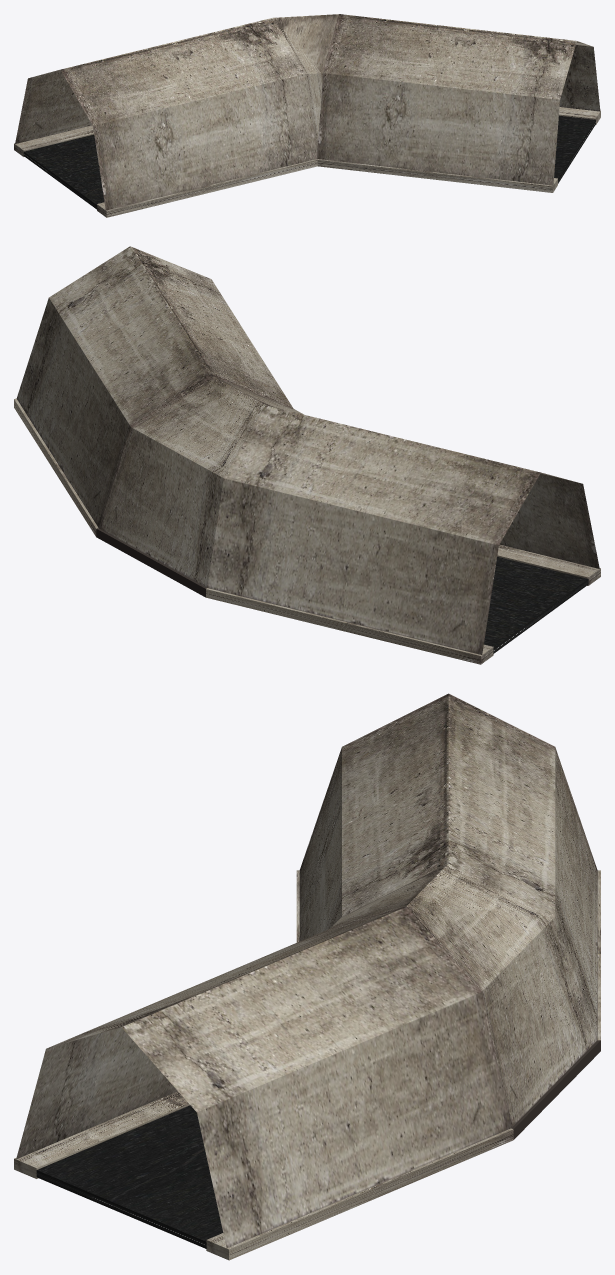
File: right_road_tunnel.glb
The picture shows the model from 3 angles, top to bottom: view 1: azimuth 30°, elevation 25°; view 2: azimuth 150°, elevation 25°; view 3: azimuth 270°, elevation 25°; orthographic projection. The views are drawn at different scales.
Parts seen in each view (by area): view 1: top, borde, road; view 2: top, borde, road; view 3: top, road, borde.
Boxes of the visible parts, <box> form: top: <box>15,14,600,210</box>; borde: <box>14,107,600,217</box>; road: <box>23,115,595,209</box>; top: <box>16,246,599,654</box>; borde: <box>14,398,600,664</box>; road: <box>484,557,588,653</box>; top: <box>16,693,597,1248</box>; road: <box>36,1105,223,1248</box>; borde: <box>14,870,600,1260</box>.
Bounding box in the file's own units: 22.31 × 5.15 × 14.59.
2 materials, 2 textured.
